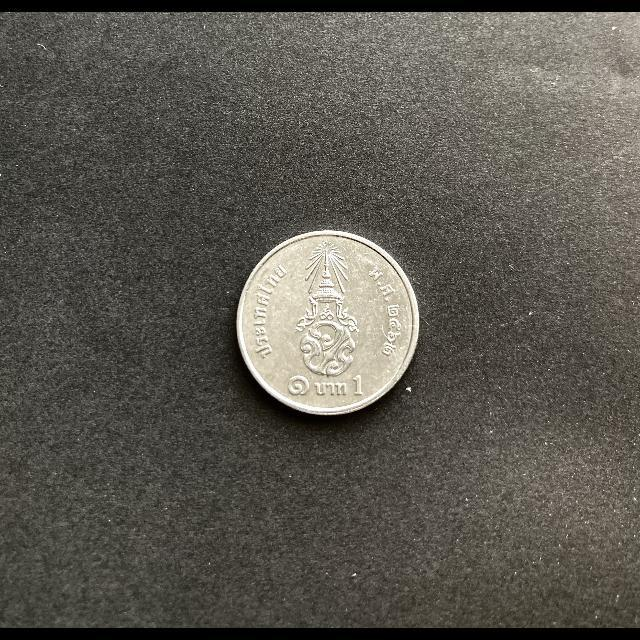1 Bath: (233, 229, 425, 420)
